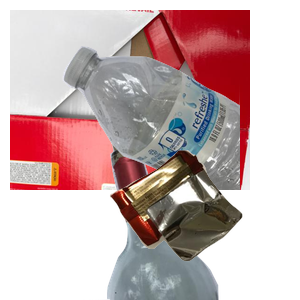cardboard: (10, 10, 250, 190)
glass: (83, 120, 294, 300)
plastic: (60, 44, 300, 224)
trash: (107, 148, 300, 300)
